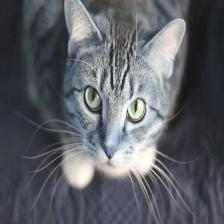kedo: (18, 0, 188, 189)
